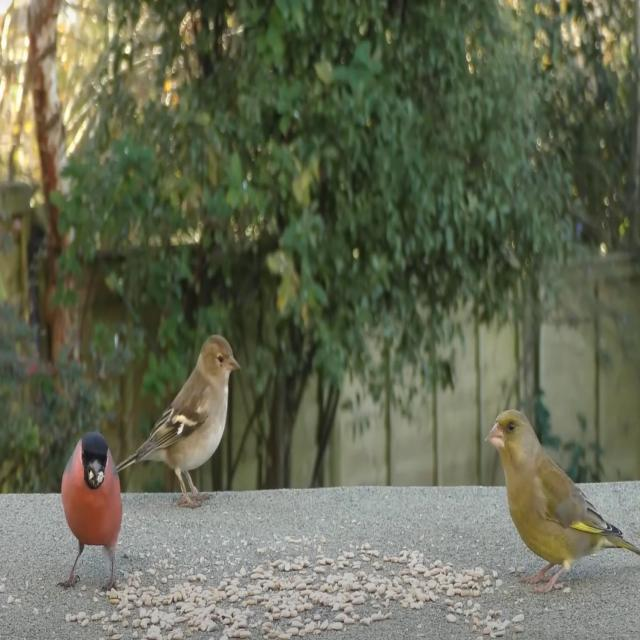beak: (484, 414, 504, 450), (85, 462, 103, 490), (230, 351, 241, 374)
bird: (481, 404, 640, 599), (111, 331, 240, 506), (58, 430, 127, 598)
